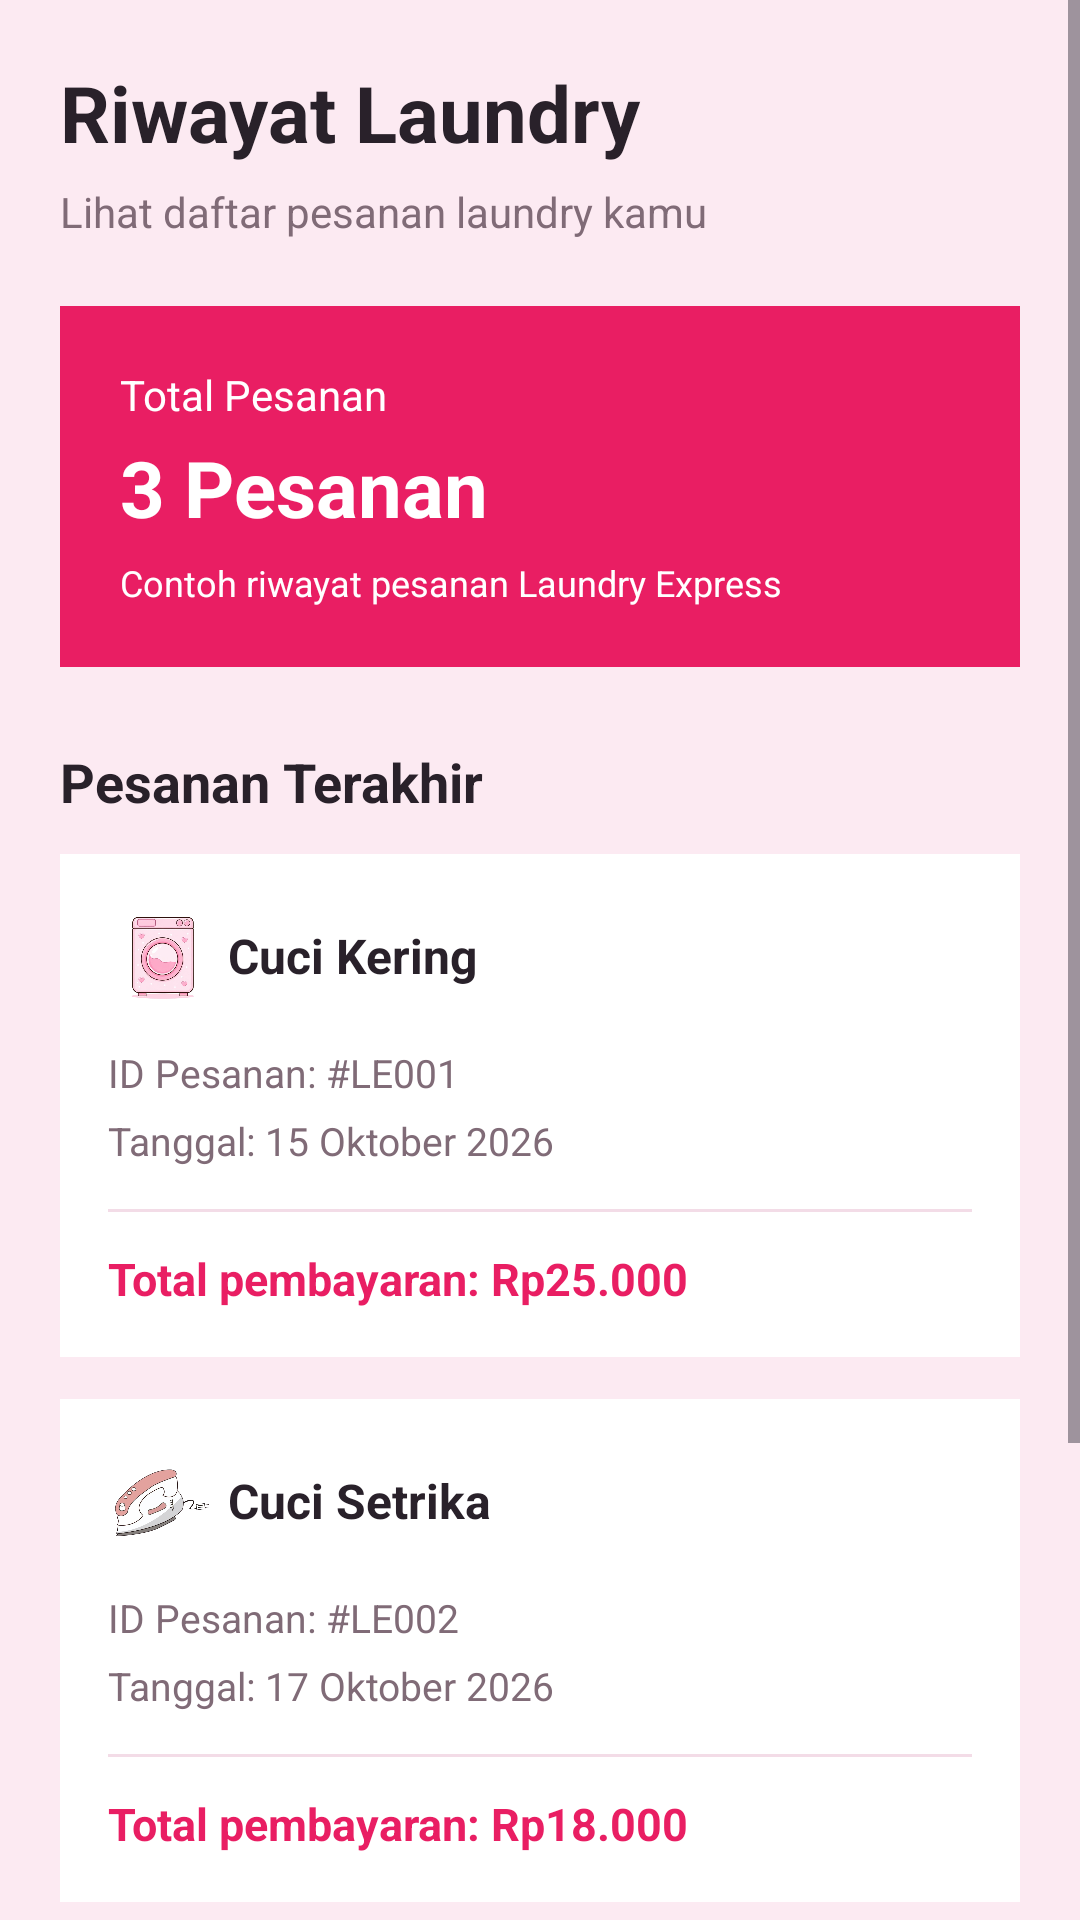

Named icons in this screenshot (1080px×1920px) and their bounding boxes, {"x1": x1, "y1": y1, "x2": x2, "y2": y2}:
Ikon setrika: {"x1": 115, "y1": 1469, "x2": 209, "y2": 1536}
Mesin cuci: {"x1": 132, "y1": 917, "x2": 194, "y2": 999}
